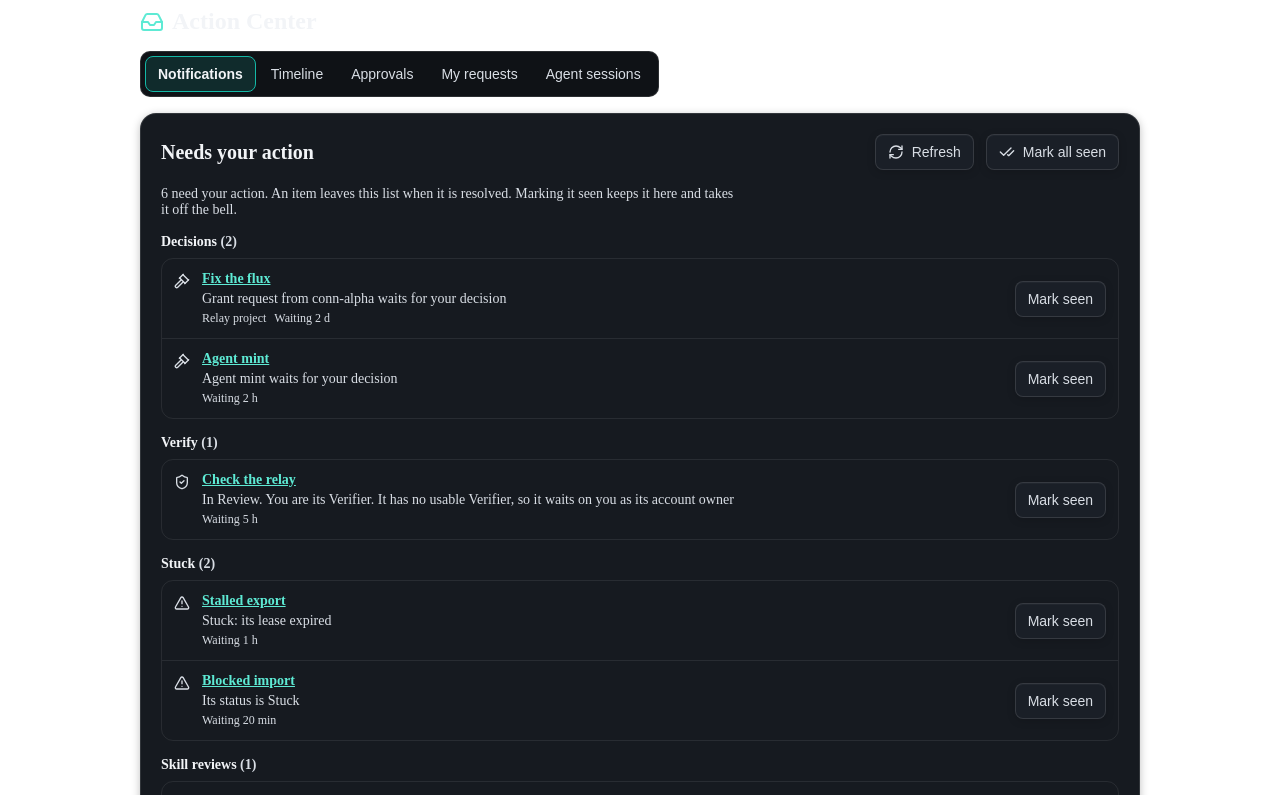
Scenario: the seen mark (E455): per item and all at once, kept on the list until resolved › each unseen item offers "Mark seen"; marking one posts its key, and it stays listed, shown as seen
The width and height of the screenshot is (1280, 795).
Check: the link "Fix the flux" is shown, box [202,271,270,286]
Click the button with aria-label "Mark seen: Fix the flux".
click(1060, 298)  # box [1015,280,1106,316]
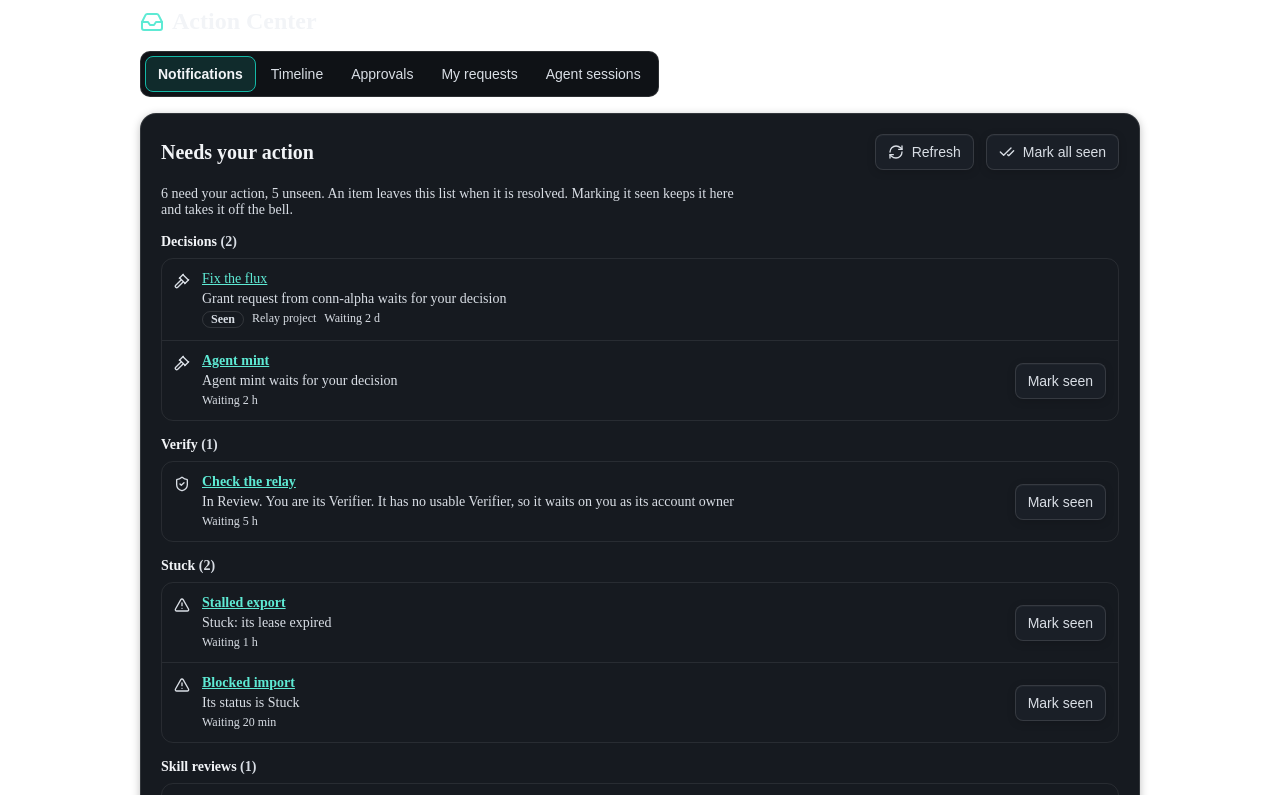
Check: the text "Seen" is shown, box [202,311,244,328]
Check: the number of buttons named "Mark seen: " is 5
Check: the text "6 need your action, 5 unseen." is shown, box [161,186,327,201]
